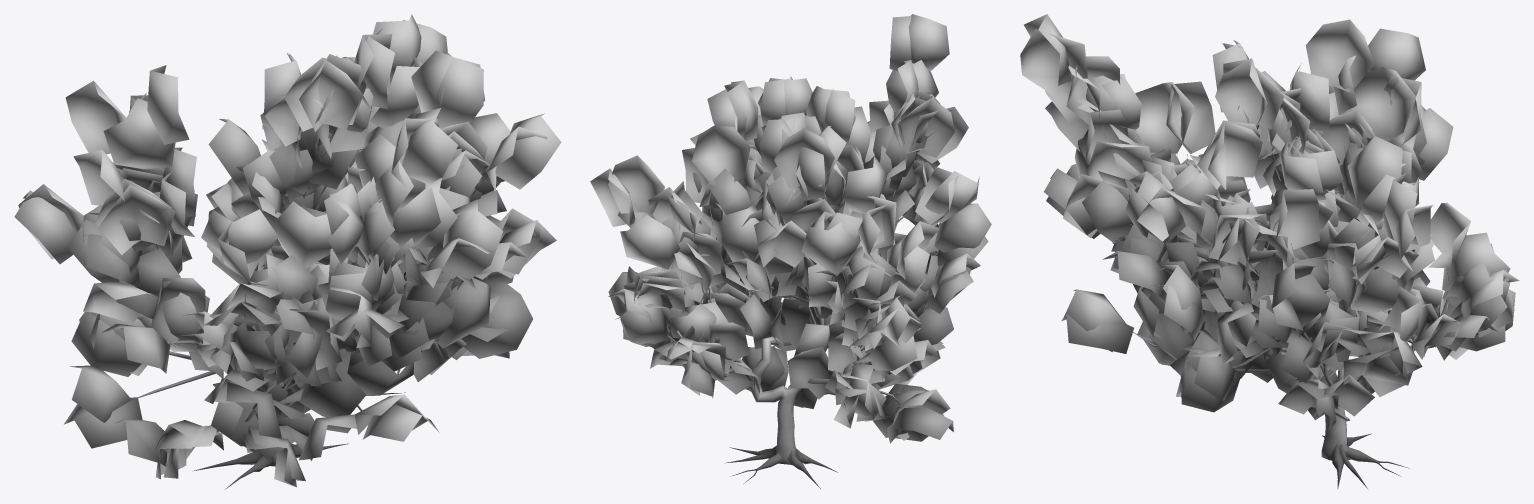
The model's file is SycamoreMiddleEastern_D.fbx.
The picture shows the model from 3 angles, left to right: view 1: azimuth 30°, elevation 25°; view 2: azimuth 150°, elevation 25°; view 3: azimuth 270°, elevation 25°; orthographic projection. The views are drawn at different scales.
Parts seen in each view (by area): view 1: SycamoreMiddleEastern_D_LOD0; view 2: SycamoreMiddleEastern_D_LOD0; view 3: SycamoreMiddleEastern_D_LOD0.
Boxes of the visible parts, x1,y1,x2,y2 form: SycamoreMiddleEastern_D_LOD0: (14, 14, 561, 489); SycamoreMiddleEastern_D_LOD0: (590, 14, 991, 488); SycamoreMiddleEastern_D_LOD0: (1020, 14, 1519, 489).
Size of the model in its own units: 1052 by 1108 by 1151.
